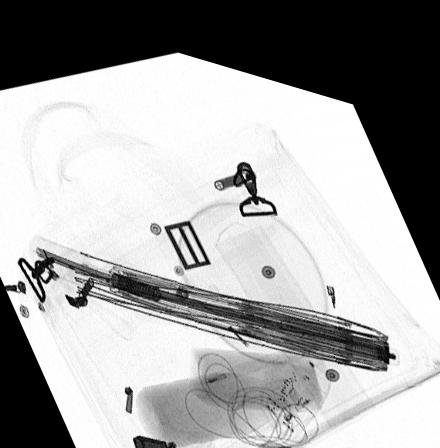Lighter: (132, 425, 171, 448)
